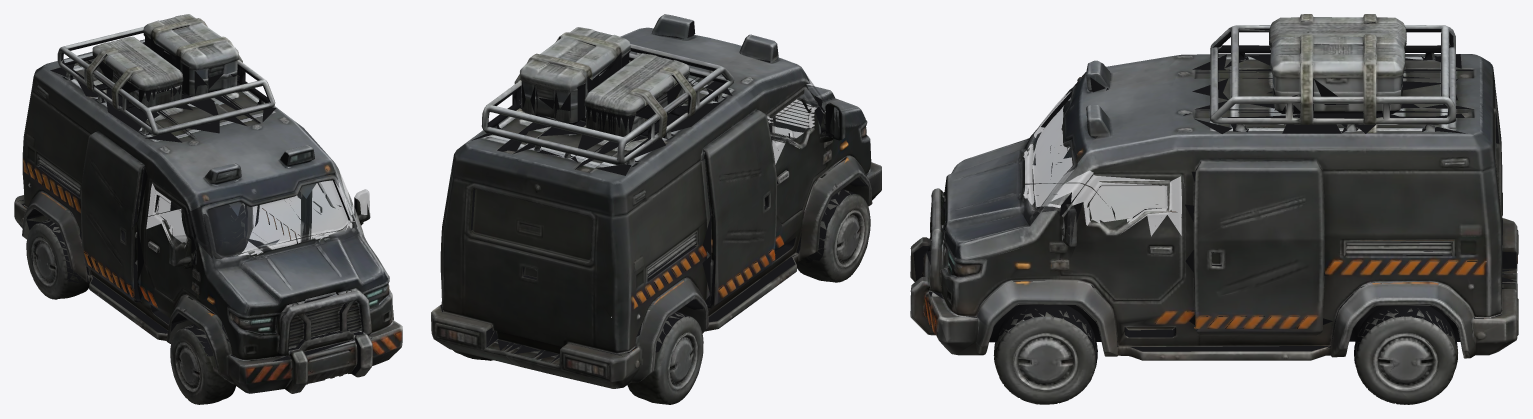
The model's file is armored.glb.
3 views of the same model, side by side, from view 1: azimuth 30°, elevation 25°; view 2: azimuth 150°, elevation 25°; view 3: azimuth 270°, elevation 25° (orthographic). The views are drawn at different scales.
Parts seen in each view (by area): view 1: body, glass, wheel_rr, wheel_fr, wheel_rl, door_r, door_r_glass; view 2: body, wheel_fr, wheel_rr, door_r, door_r_glass, glass; view 3: body, wheel_fl, wheel_rl, door_l, glass, door_l_glass.
Boxes of the visible parts, <box> form: body: <box>14,14,402,404</box>; glass: <box>151,173,370,263</box>; wheel_rr: <box>26,219,89,299</box>; wheel_fr: <box>168,324,235,404</box>; wheel_rl: <box>181,203,246,259</box>; door_r: <box>144,186,179,314</box>; door_r_glass: <box>146,188,182,240</box>; body: <box>431,14,881,388</box>; wheel_fr: <box>796,189,870,282</box>; wheel_rr: <box>627,311,703,404</box>; door_r: <box>775,133,811,247</box>; door_r_glass: <box>768,97,800,164</box>; glass: <box>767,76,844,134</box>; body: <box>910,14,1518,372</box>; wheel_fl: <box>994,304,1104,404</box>; wheel_rl: <box>1354,305,1457,404</box>; door_l: <box>1108,181,1183,323</box>; glass: <box>1023,92,1180,241</box>; door_l_glass: <box>1109,182,1181,235</box>.
Size of the model in its own units: 2.55 by 3.14 by 5.4.
2 materials, 2 textured.
